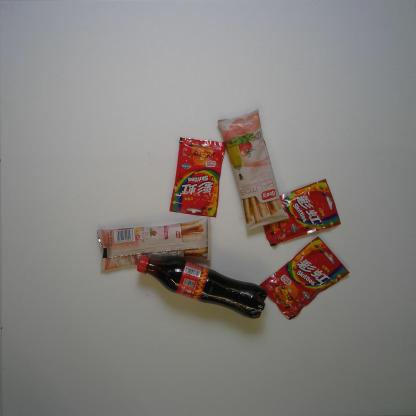Candy: (260, 235, 352, 321), (262, 177, 341, 247), (168, 136, 227, 218)
Dessert: (217, 107, 289, 233), (96, 216, 212, 272)
Drink: (135, 254, 268, 320)
